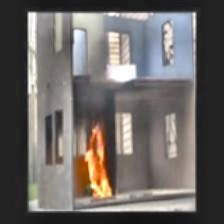fire: (78, 123, 113, 201)
